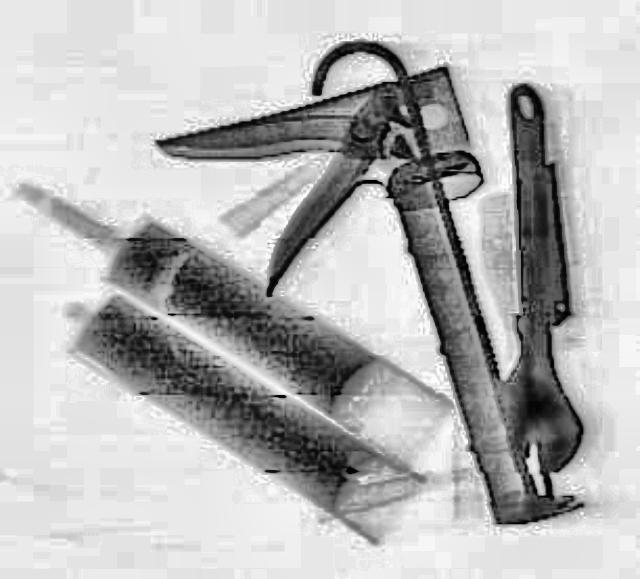Knife: (146, 61, 588, 569)
Wrench: (444, 78, 584, 474)
